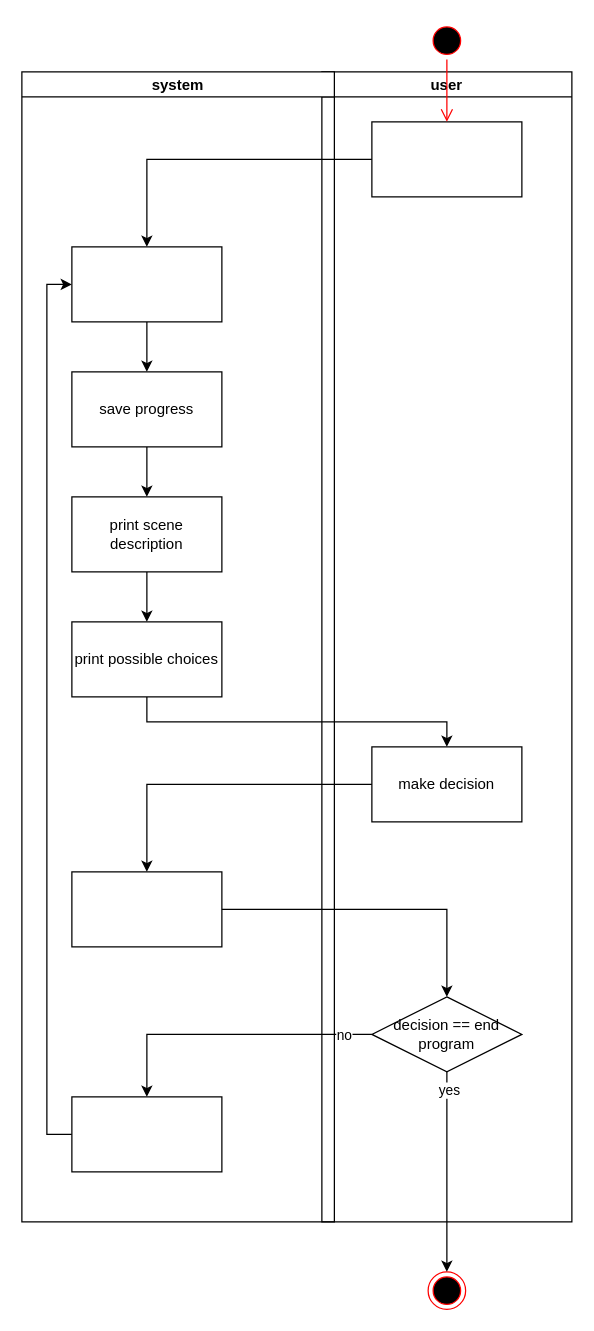
Image size: 594x1331. Some labels were removed from this diagram. The shapes that lost their labels are listed below. From the top down, each one's centre as x and y in pixels, then its label:
point (446, 159): start program
point (146, 284): load scene
point (146, 909): print decision "outcome"
point (146, 1134): choose next scene based on decision
